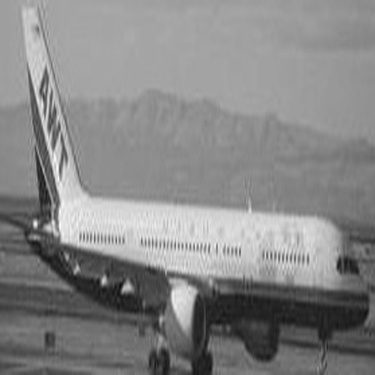airplane: (8, 1, 362, 369)
